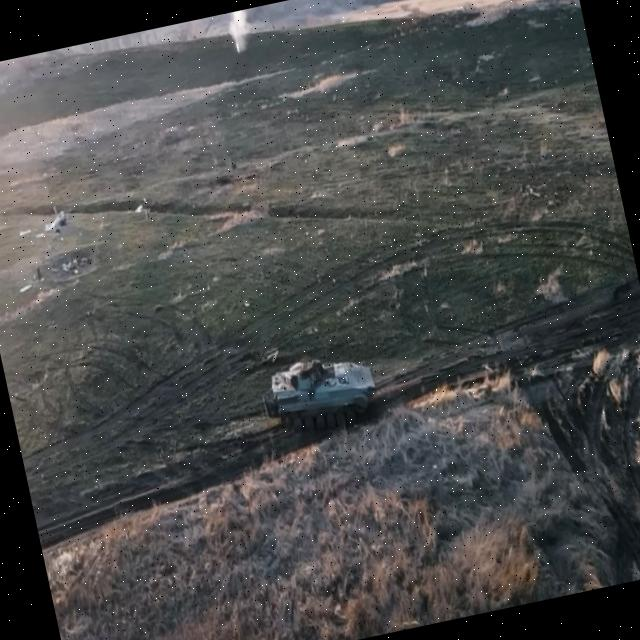Vehicle: (265, 347, 384, 438)
